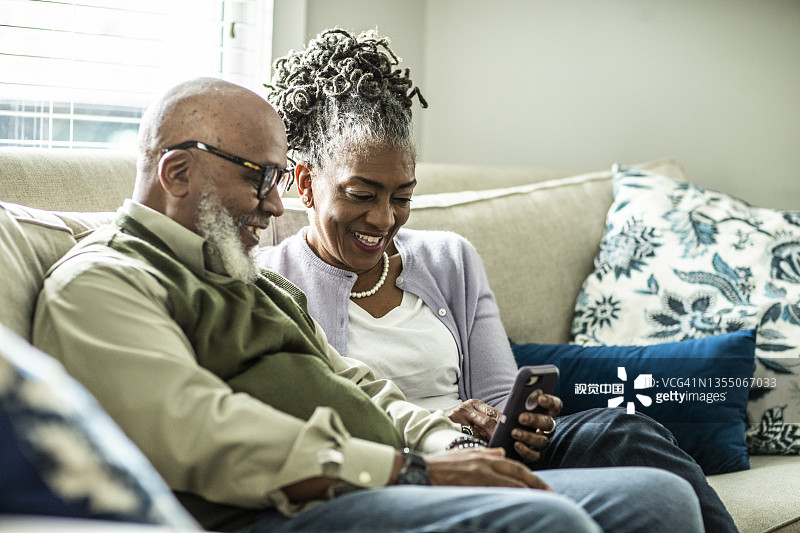reading: (437, 365, 569, 466)
